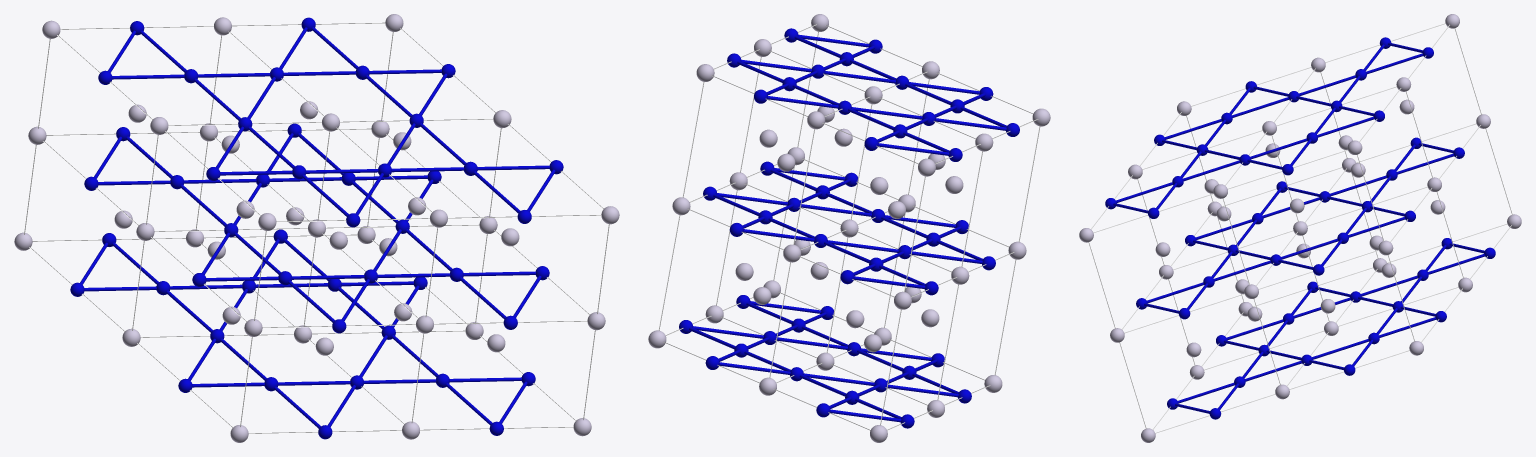
Rendered from wannier90_00001.glb.
3 views of the same model, side by side, from view 1: azimuth 30°, elevation 25°; view 2: azimuth 150°, elevation 25°; view 3: azimuth 270°, elevation 25° (orthographic). The views are drawn at different scales.
Size of the model in its own units: 12.63 by 12.1 by 16.63.
